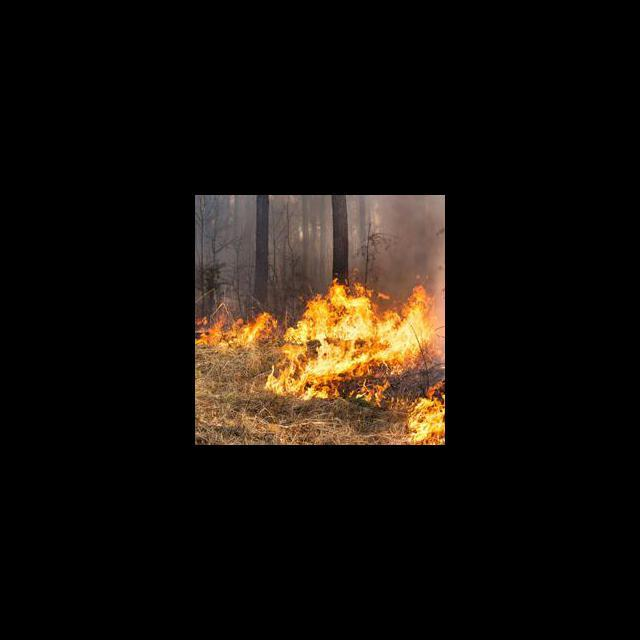Fire: (196, 272, 441, 403), (401, 381, 445, 444)
